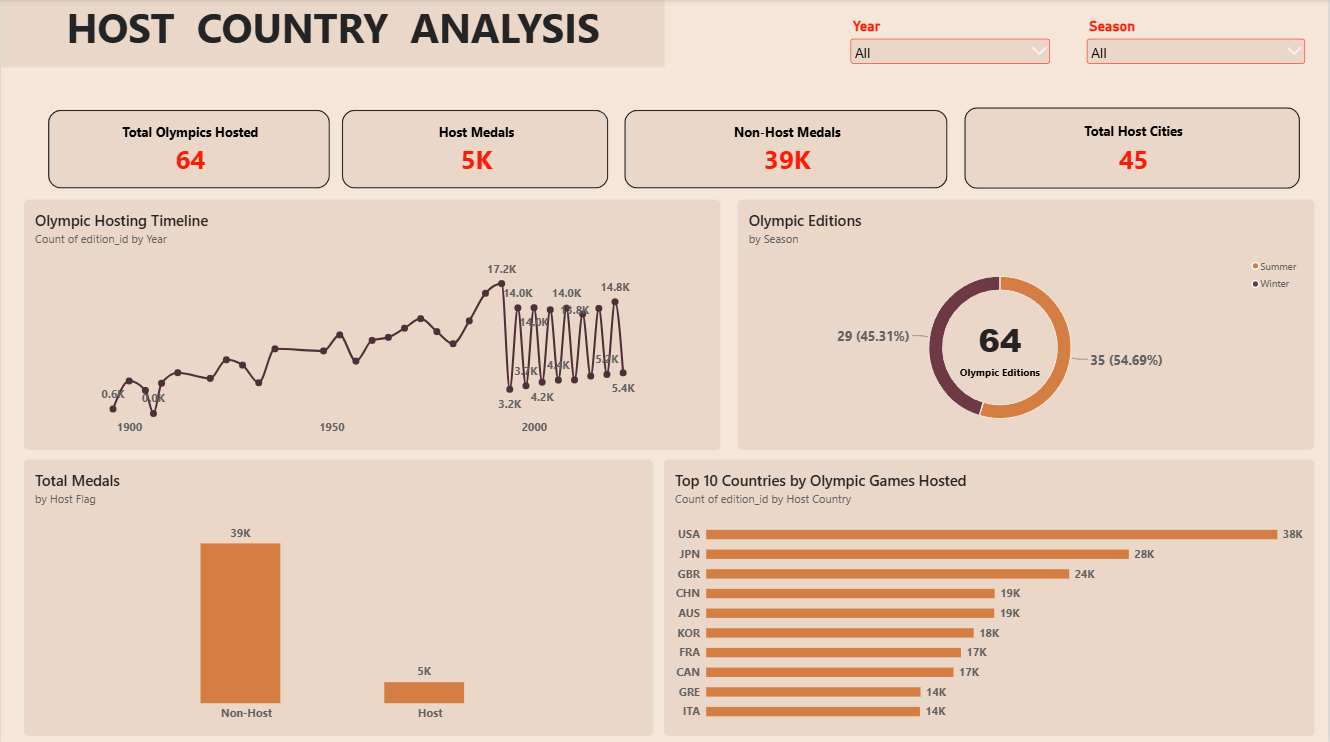

The page's visual inventory and layout, read from the dashboard file:
{"tool":"powerbi","page":{"name":"Host Country Analysis 5","canvas":[1920,1080],"ordinal":4},"visuals":[{"type":"columnChart","fields":{"Category":["Olympic_Athlete_Event_Results.Host Flag"],"Y":["measure table.Total Medals"]},"box":[32.6,666,912.1,401.7],"z":0},{"type":"barChart","title":"Top 10 Countries by Olympic Games Hosted","fields":{"Y":["CountNonNull(Olympic_Athlete_Event_Results.edition_id)"],"Category":["Olympic_Athlete_Event_Results.Host Country"]},"box":[959.1,666,942.8,401.7],"z":1000},{"type":"lineChart","title":"Olympic Hosting Timeline","fields":{"Category":["Calendar.Year"],"Y":["CountNonNull(Olympic_Athlete_Event_Results.edition_id)"]},"box":[32.6,289.5,1009.8,363.7],"z":2000},{"type":"donutChart","fields":{"Y":["measure table.Olympic Editions"],"Category":["Olympics_Games.Season"]},"box":[1065.9,289.5,836.1,363.7],"z":3000},{"type":"cardVisual","fields":{"Data":["measure table.Olympics Hosted"]},"box":[56.1,148.4,432,138],"z":4000},{"type":"cardVisual","fields":{"Data":["measure table.Non-Host Medals"]},"box":[890.4,148.4,492,138],"z":5000},{"type":"cardVisual","fields":{"Data":["measure table.Host Medals"]},"box":[481.4,148.4,410,138],"z":6000},{"type":"cardVisual","fields":{"Data":["measure table.Total Host Cities"]},"box":[1382.6,144.8,510,142],"z":7000},{"type":"slicer","fields":{"Values":["Calendar.Year"]},"box":[1225.1,27.1,298.6,70.6],"z":8000},{"type":"slicer","fields":{"Values":["Olympics_Games.Season"]},"box":[1567.2,27.1,325.7,86.9],"z":9000},{"type":"textbox","box":[0,0,960.9,99.5],"z":10000}]}

Visuals, with their boxes in screenshot pixels (x1, y1, x2, y2), scaled from the page's 1920x1080 canvas onto the 1330x742 screenshot:
columnChart - Olympic_Athlete_Event_Results.Host Flag x measure table.Total Medals: Rect(23, 458, 654, 734)
"Top 10 Countries by Olympic Games Hosted" barChart: Rect(664, 458, 1317, 734)
"Olympic Hosting Timeline" lineChart: Rect(23, 199, 722, 449)
donutChart - measure table.Olympic Editions x Olympics_Games.Season: Rect(738, 199, 1318, 449)
cardVisual - measure table.Olympics Hosted: Rect(39, 102, 338, 197)
cardVisual - measure table.Non-Host Medals: Rect(617, 102, 958, 197)
cardVisual - measure table.Host Medals: Rect(333, 102, 617, 197)
cardVisual - measure table.Total Host Cities: Rect(958, 99, 1311, 197)
slicer - Calendar.Year: Rect(849, 19, 1055, 67)
slicer - Olympics_Games.Season: Rect(1086, 19, 1311, 78)
textbox: Rect(0, 0, 666, 68)
